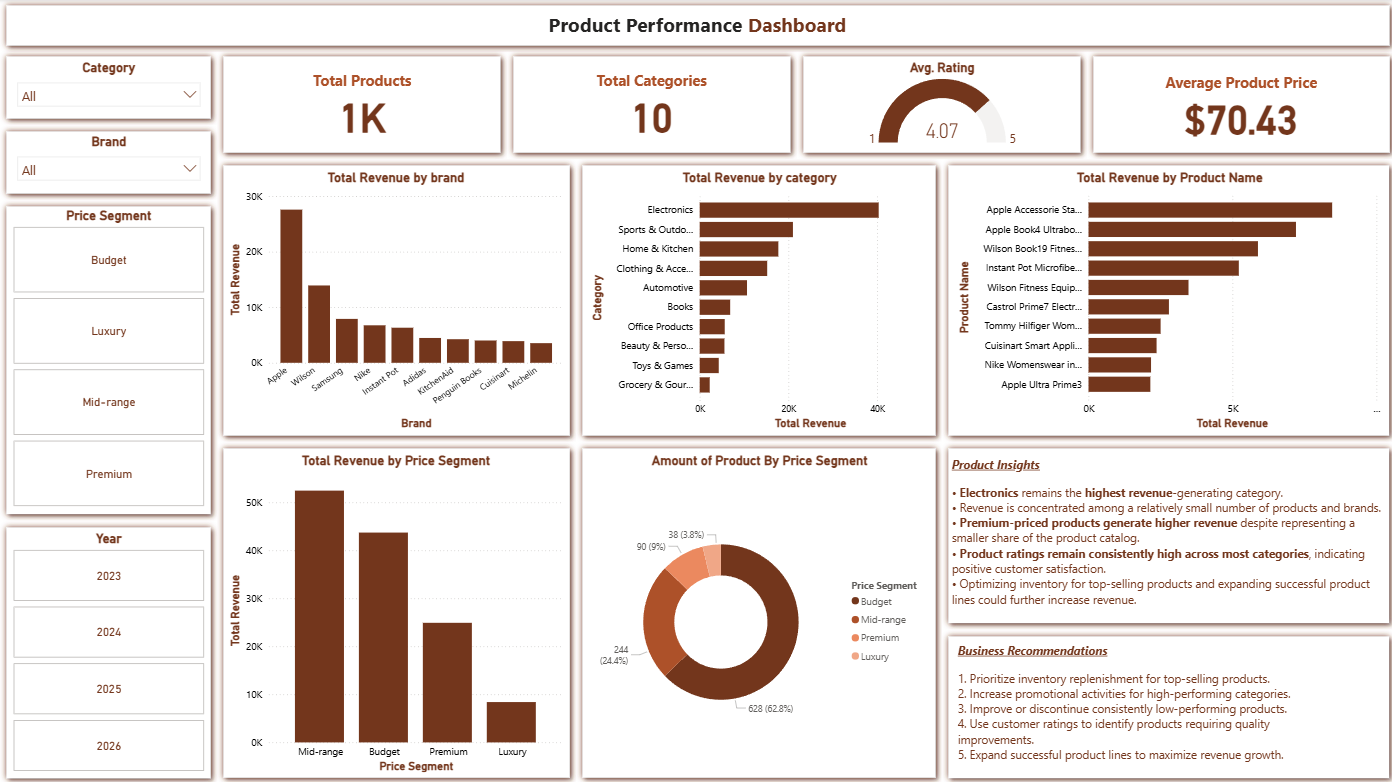

This screenshot's page, from the dashboard's own definition file:
{"tool":"powerbi","page":{"name":"Product Performance","canvas":[1920,1080],"ordinal":2},"visuals":[{"type":"shape","box":[1296.2,867.8,623.8,212.6],"z":0},{"type":"shape","box":[1296.2,609.8,623.8,258],"z":1000},{"type":"shape","box":[792.7,609.8,503.5,470.6],"z":2000},{"type":"shape","box":[298.6,609.8,494.1,470.6],"z":3000},{"type":"shape","box":[1296.2,220.5,623.8,389.3],"z":4000},{"type":"shape","box":[792.7,220.5,503.5,389.3],"z":5000},{"type":"shape","box":[298.6,220.5,494.1,389.3],"z":6000},{"type":"shape","box":[1494.7,70.4,425.3,150.1],"z":7000},{"type":"shape","box":[1096,70.4,398.7,150.1],"z":8000},{"type":"shape","box":[697.3,70.4,398.7,150.1],"z":9000},{"type":"shape","box":[298.6,70.4,398.7,150.1],"z":10000},{"type":"shape","box":[0,717.7,298.6,362.7],"z":11000},{"type":"shape","box":[0,276.7,298.6,440.9],"z":12000},{"type":"shape","box":[0,173.6,298.6,103.2],"z":13000},{"type":"shape","box":[0,70.4,298.6,103.2],"z":14000},{"type":"shape","box":[0,0,1920,72.9],"z":15000},{"type":"textbox","box":[730.9,11.7,458.1,49.6],"z":16000},{"type":"cardVisual","fields":{"Data":["public products.Total Products"]},"box":[336.2,81.3,325.2,126.6],"z":17000},{"type":"cardVisual","fields":{"Data":["public products.Total Categories"]},"box":[733.3,81.3,326.8,126.6],"z":18000},{"type":"gauge","title":"Avg. Rating","fields":{"Y":["public reviews.Average Rating"],"MinValue":["Min(public reviews.rating)"],"MaxValue":["Max(public reviews.rating)"]},"box":[1133.6,84.4,325.2,123.5],"z":19000},{"type":"cardVisual","fields":{"Data":["public products.Average Product Price"]},"box":[1544.8,84.4,325.2,123.5],"z":20000},{"type":"barChart","fields":{"Category":["public products.category"],"Y":["public purchases.Total Revenue"]},"box":[806.8,234.5,475.3,361.2],"z":21000},{"type":"columnChart","fields":{"Category":["public products.brand"],"Y":["public purchases.Total Revenue"]},"box":[309.6,234.5,470.6,361.2],"z":22000},{"type":"barChart","title":"Total Revenue by Product Name","fields":{"Category":["public products.product_name"],"Y":["public purchases.Total Revenue"]},"box":[1311.8,234.5,594.1,361.2],"z":23000},{"type":"donutChart","title":"Amount of Product By Price Segment","fields":{"Category":["public products.Price Segment"],"Y":["CountNonNull(public products.product_id)"]},"box":[806.8,623.8,475.3,444],"z":24000},{"type":"columnChart","fields":{"Category":["public products.Price Segment"],"Y":["public purchases.Total Revenue"]},"box":[309.6,623.8,470.6,444],"z":25000},{"type":"textbox","box":[1304,623.8,608.2,243.9],"z":26000},{"type":"textbox","box":[1311.8,880.3,514.4,187.6],"z":27000},{"type":"slicer","title":"Category","fields":{"Values":["public products.category"]},"box":[14.1,84.4,272.1,73.5],"z":28000},{"type":"slicer","title":"Brand","fields":{"Values":["public products.brand"]},"box":[14.1,186.1,272.1,79.7],"z":29000},{"type":"advancedSlicerVisual","fields":{"Values":["public products.Price Segment"]},"box":[14.1,287.7,272.1,415.9],"z":30000},{"type":"advancedSlicerVisual","fields":{"Values":["public purchases.order_date.Variation.Date Hierarchy.Year"]},"box":[14.1,731.7,272.1,336.2],"z":31000}]}

Visuals, with their boxes in screenshot pixels (x1, y1, x2, y2), scaled from the page's 1920x1080 canvas onto the 1392x782 screenshot:
shape: [left=940, top=628, right=1391, bottom=781]
shape: [left=940, top=442, right=1391, bottom=628]
shape: [left=575, top=442, right=940, bottom=781]
shape: [left=216, top=442, right=575, bottom=781]
shape: [left=940, top=160, right=1391, bottom=442]
shape: [left=575, top=160, right=940, bottom=442]
shape: [left=216, top=160, right=575, bottom=442]
shape: [left=1084, top=51, right=1391, bottom=160]
shape: [left=795, top=51, right=1084, bottom=160]
shape: [left=506, top=51, right=795, bottom=160]
shape: [left=216, top=51, right=506, bottom=160]
shape: [left=0, top=520, right=216, bottom=781]
shape: [left=0, top=200, right=216, bottom=520]
shape: [left=0, top=126, right=216, bottom=200]
shape: [left=0, top=51, right=216, bottom=126]
shape: [left=0, top=0, right=1391, bottom=53]
textbox: [left=530, top=8, right=862, bottom=44]
cardVisual - public products.Total Products: [left=244, top=59, right=480, bottom=151]
cardVisual - public products.Total Categories: [left=532, top=59, right=769, bottom=151]
"Avg. Rating" gauge: [left=822, top=61, right=1058, bottom=151]
cardVisual - public products.Average Product Price: [left=1120, top=61, right=1356, bottom=151]
barChart - public products.category x public purchases.Total Revenue: [left=585, top=170, right=930, bottom=431]
columnChart - public products.brand x public purchases.Total Revenue: [left=224, top=170, right=566, bottom=431]
"Total Revenue by Product Name" barChart: [left=951, top=170, right=1382, bottom=431]
"Amount of Product By Price Segment" donutChart: [left=585, top=452, right=930, bottom=773]
columnChart - public products.Price Segment x public purchases.Total Revenue: [left=224, top=452, right=566, bottom=773]
textbox: [left=945, top=452, right=1386, bottom=628]
textbox: [left=951, top=637, right=1324, bottom=773]
"Category" slicer: [left=10, top=61, right=207, bottom=114]
"Brand" slicer: [left=10, top=135, right=207, bottom=192]
advancedSlicerVisual - public products.Price Segment: [left=10, top=208, right=207, bottom=509]
advancedSlicerVisual - public purchases.order_date.Variation.Date Hierarchy.Year: [left=10, top=530, right=207, bottom=773]
